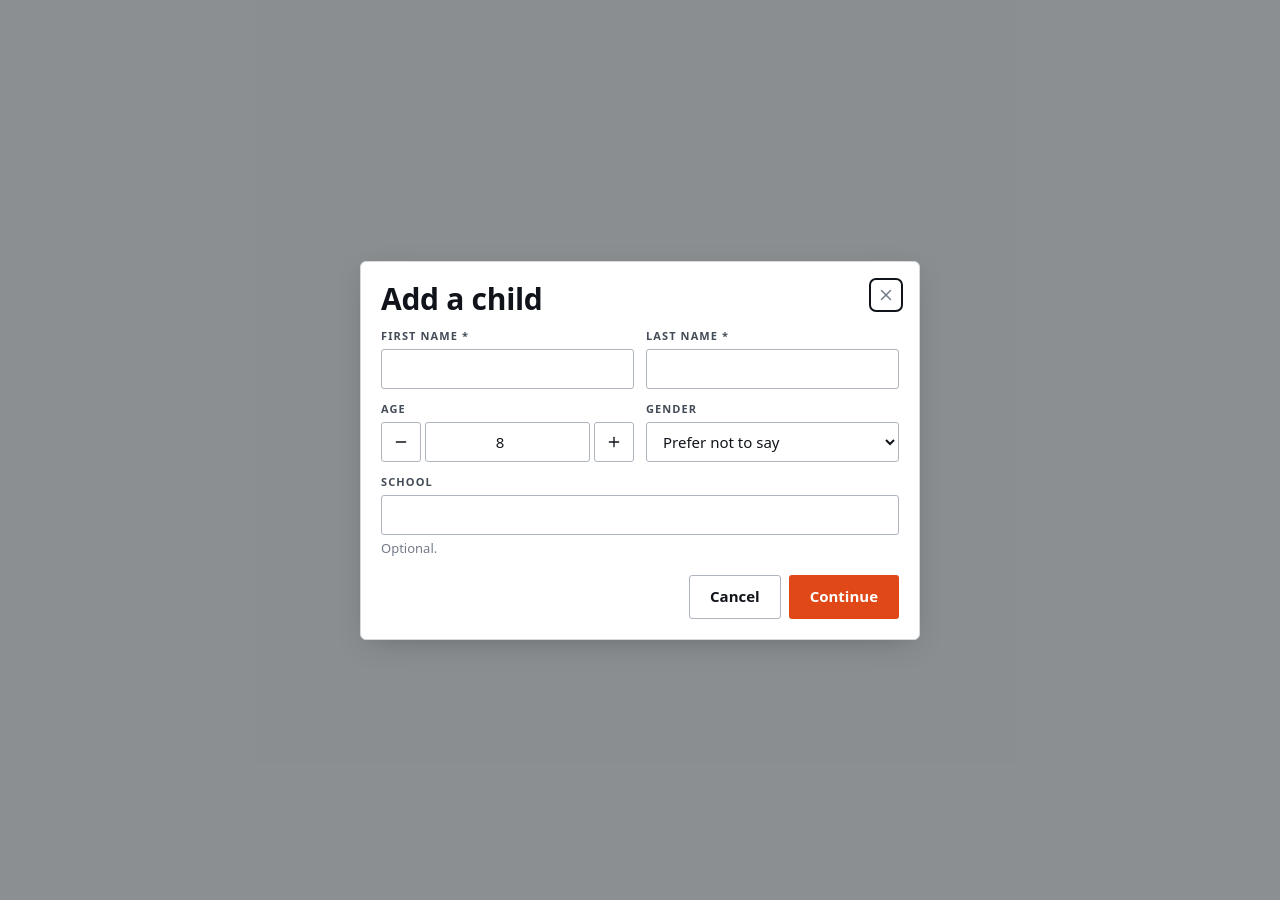
Test: AddChildFlow (FR-021/022, L2) › surfaces the duplicate warning and resubmits with confirmDuplicate on "Add anyway"
Type "New" into the field labelled "First name *" at (508, 369), box [381,348,634,389]
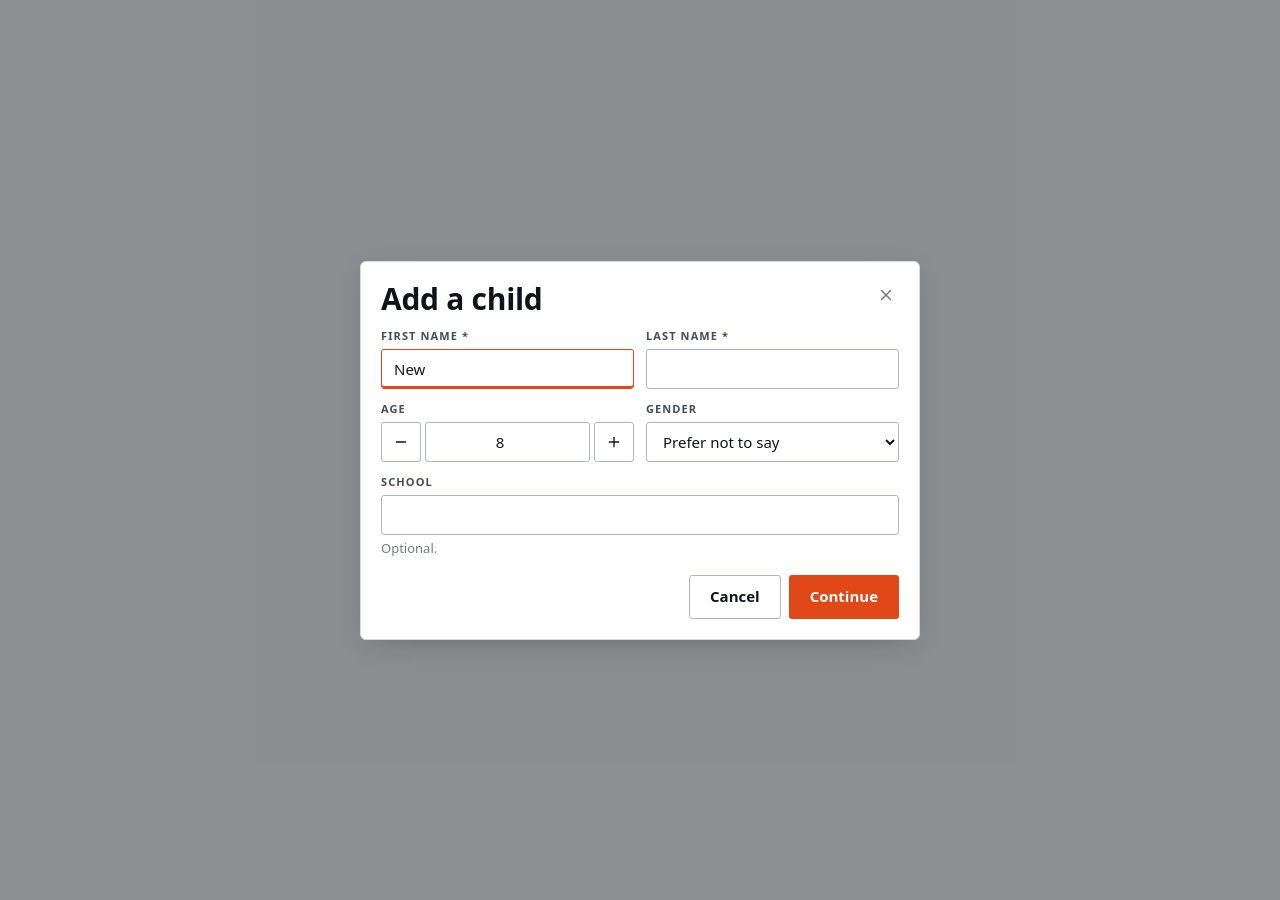
Type "Kid" into the field labelled "Last name *" at (772, 369), box [646,348,899,389]
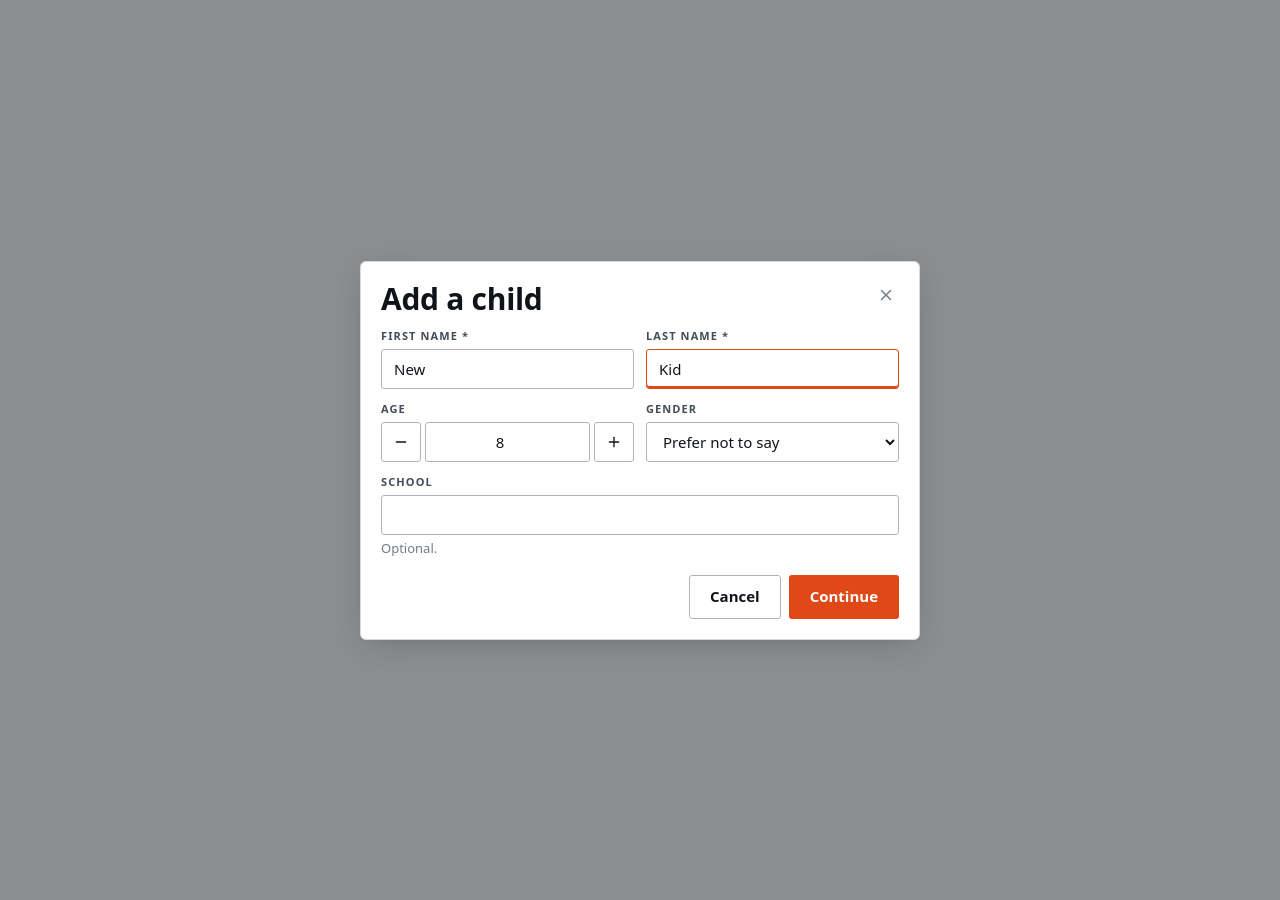
Click the button "Continue" at (844, 596), box [789,574,899,618]
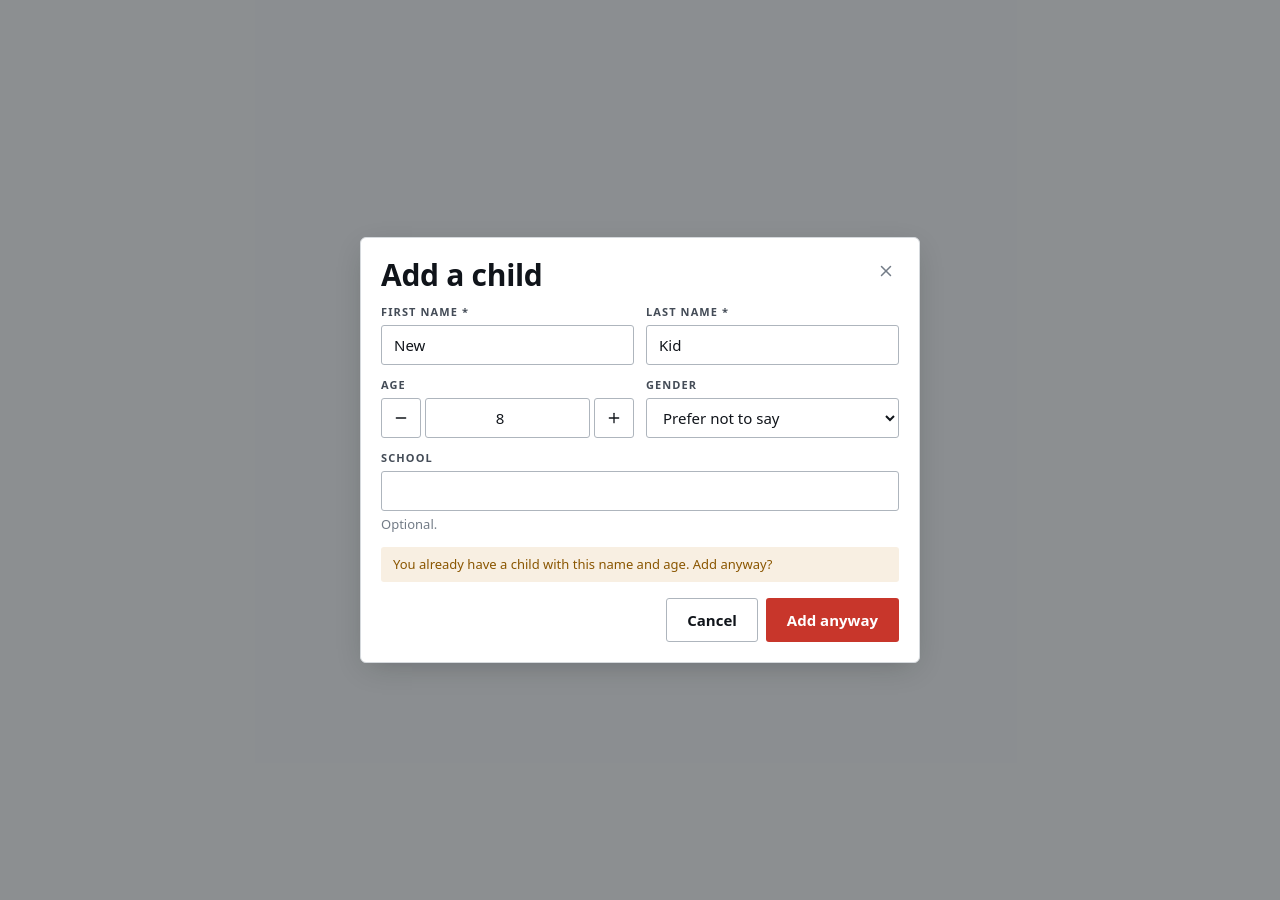
Expected: the text "You already have a child with this name and age. Add anyway?" is shown, [381,547,899,582]
Click the button "Add anyway" at (832, 620), box [766,598,899,642]
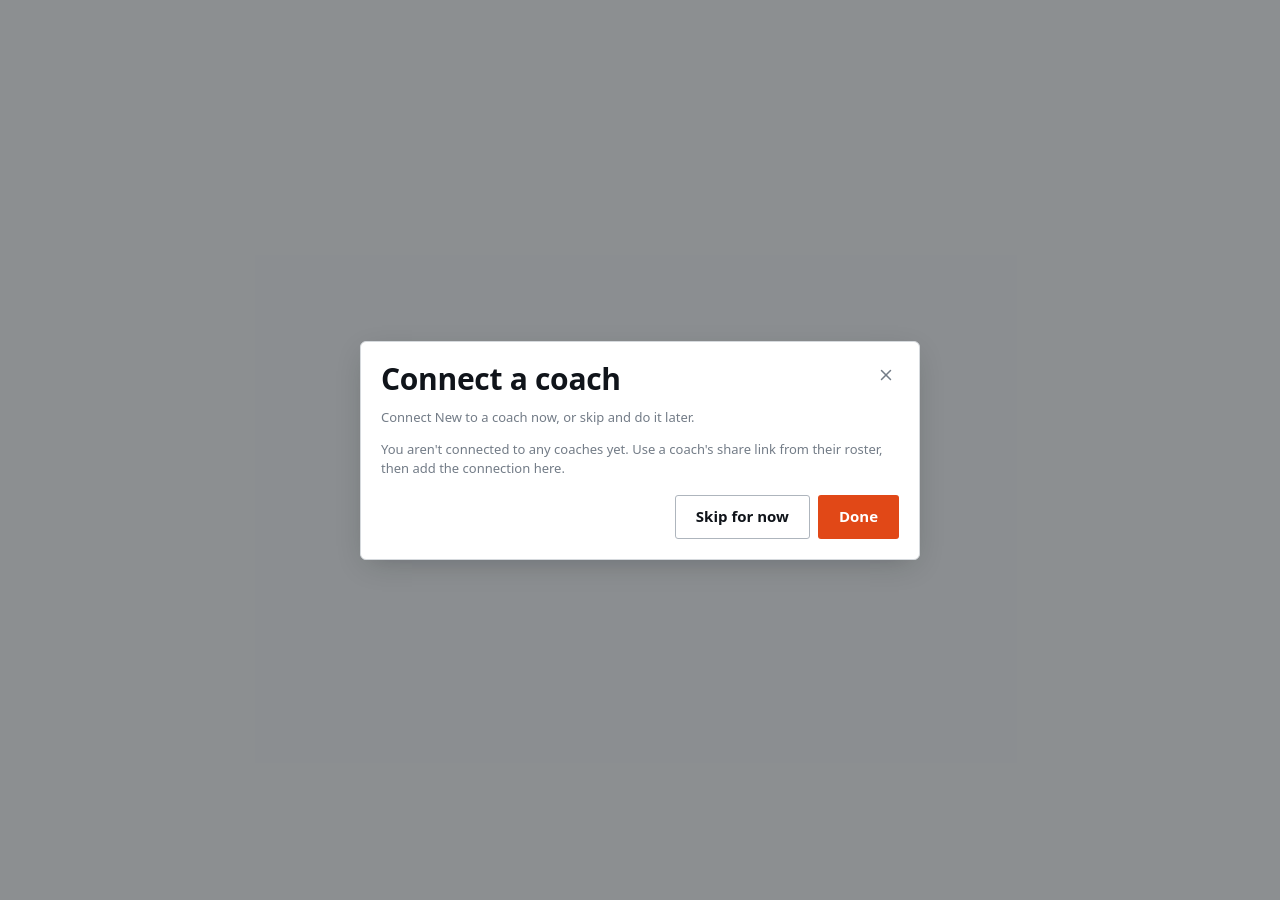
Expected: the text "Connect New to a coach now, or skip and do it later." is shown, [381,408,694,426]
